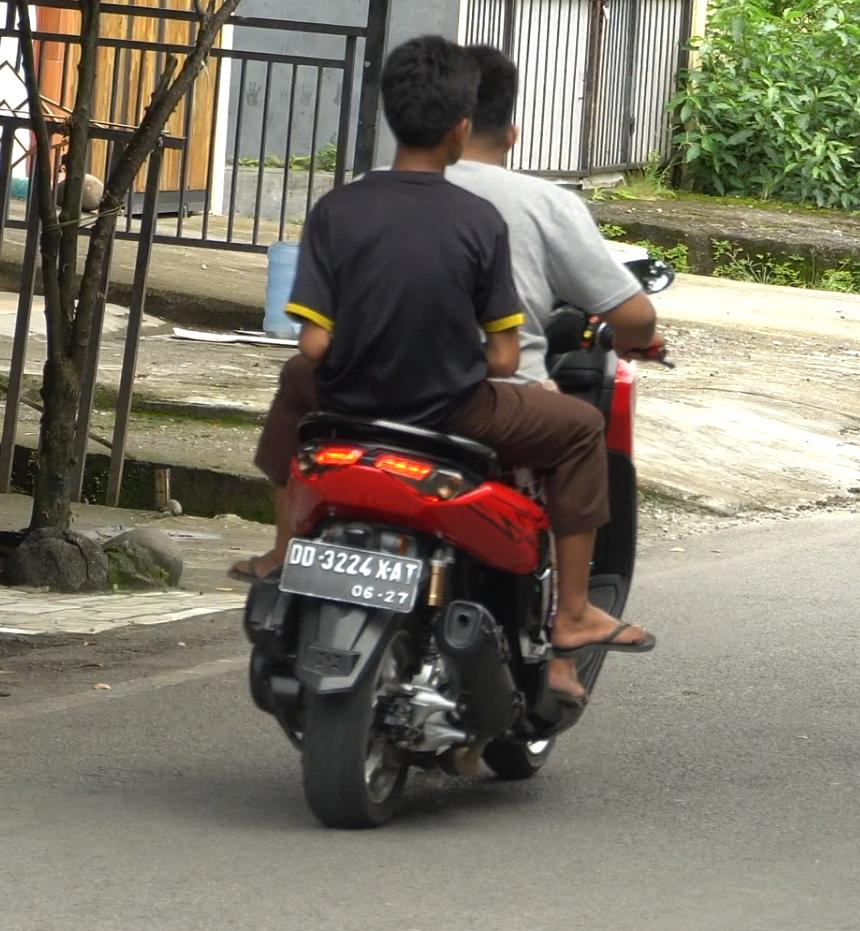number-plate: (281, 537, 419, 614)
